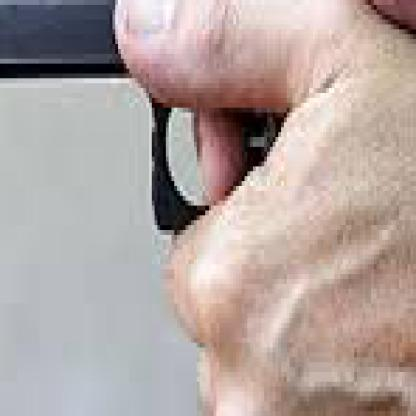gun: (0, 0, 413, 338)
